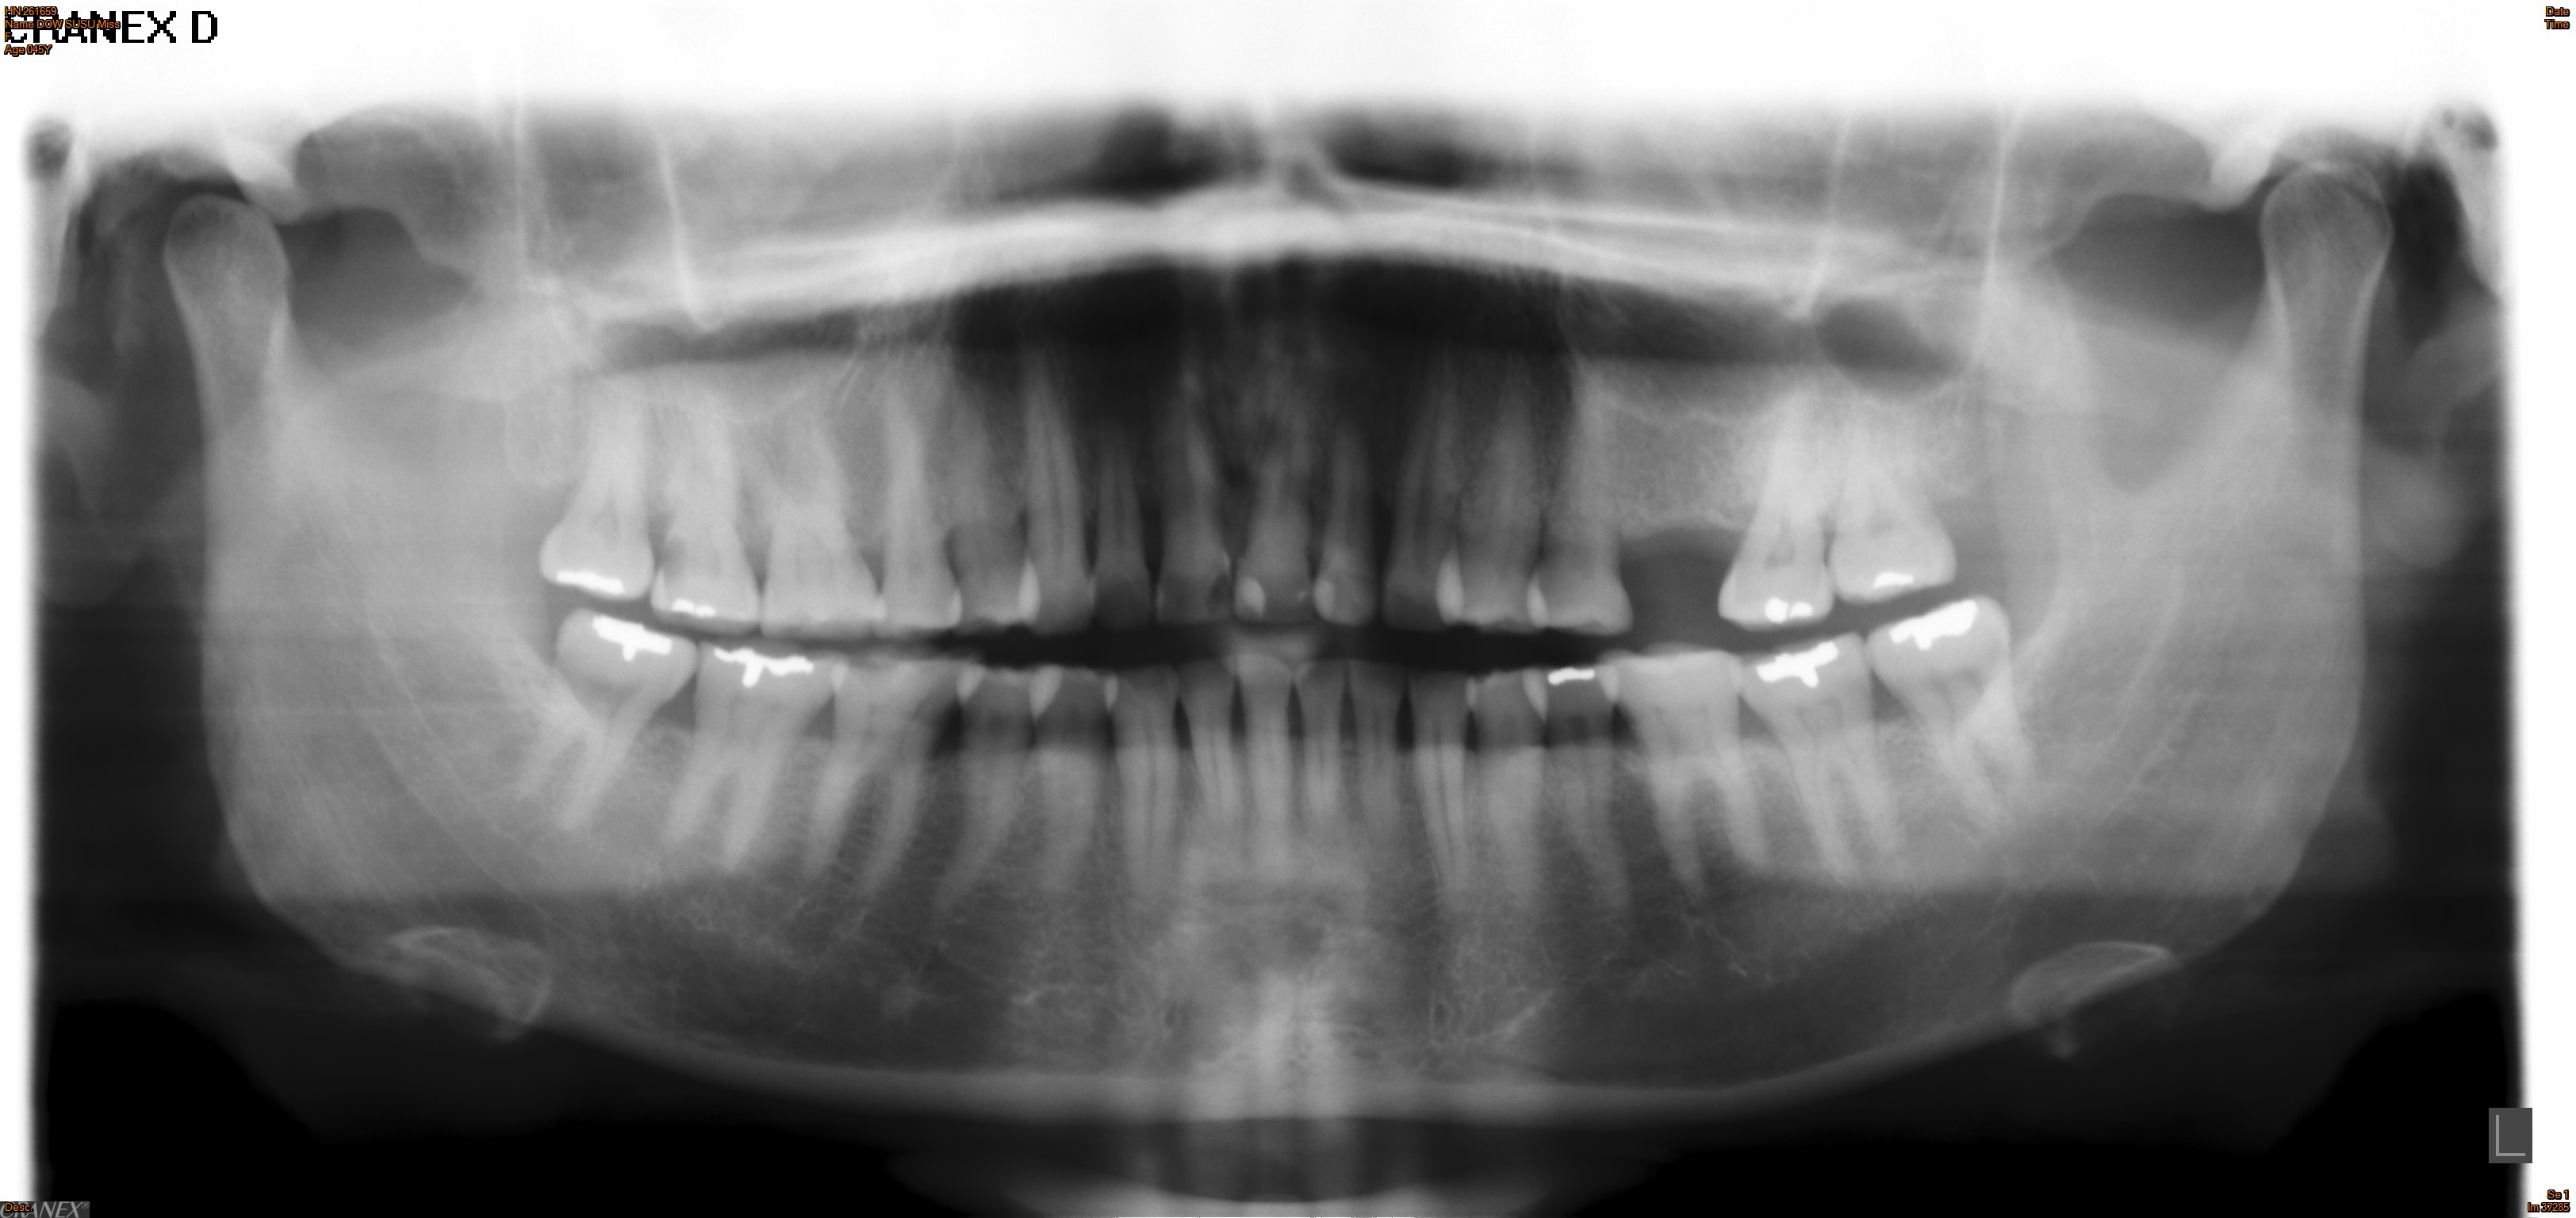periodontitis: (1855, 591, 2060, 849), (1728, 625, 1916, 906), (499, 601, 705, 837), (644, 640, 848, 878), (1520, 351, 1641, 645), (1710, 371, 1847, 632)
